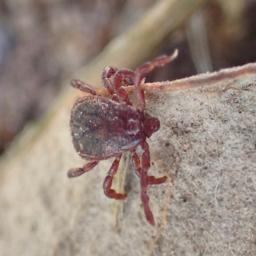Rhipicephalus sanguineus: (67, 48, 179, 227)
